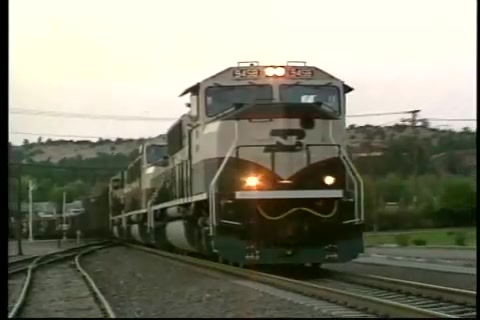train: (82, 62, 369, 274)
